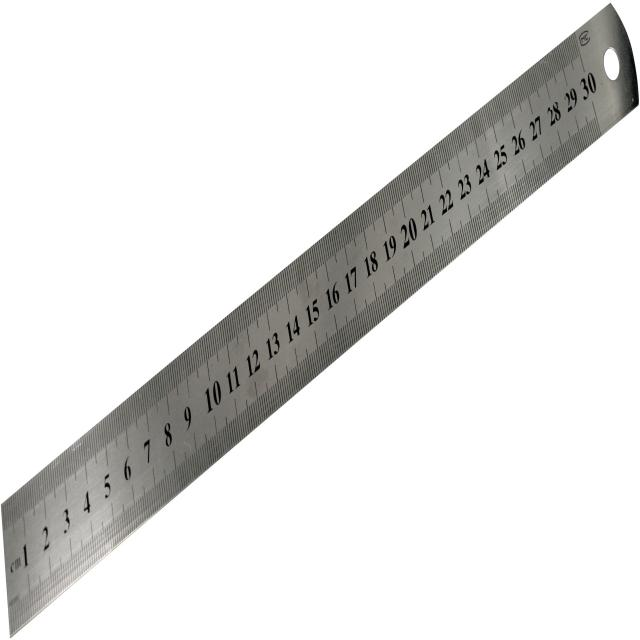scale: (2, 6, 640, 628)
